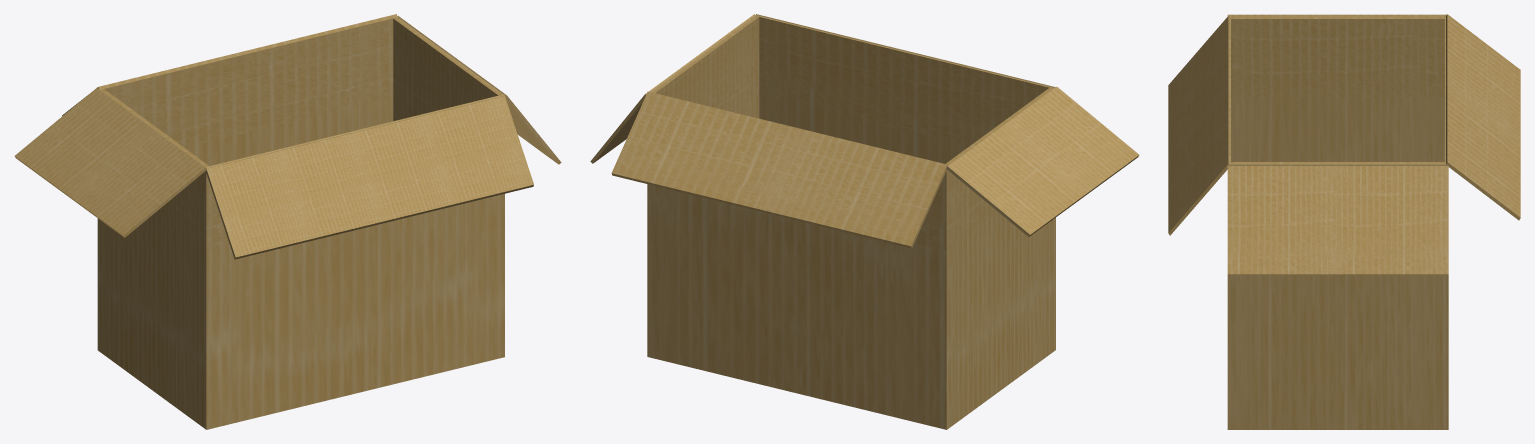
Rendered from Cardboard_G.fbx.
The picture shows the model from 3 angles, left to right: view 1: azimuth 30°, elevation 25°; view 2: azimuth 150°, elevation 25°; view 3: azimuth 270°, elevation 25°; orthographic projection.
Visible parts, largest first — view 1: Cardboard_Gtype; view 2: Cardboard_Gtype; view 3: Cardboard_Gtype.
Part boxes in pixels (x1=…): Cardboard_Gtype: x1=14, y1=14, x2=561, y2=429; Cardboard_Gtype: x1=590, y1=14, x2=1139, y2=429; Cardboard_Gtype: x1=1168, y1=14, x2=1520, y2=429.
Size of the model in its own units: 465 by 268 by 319.
